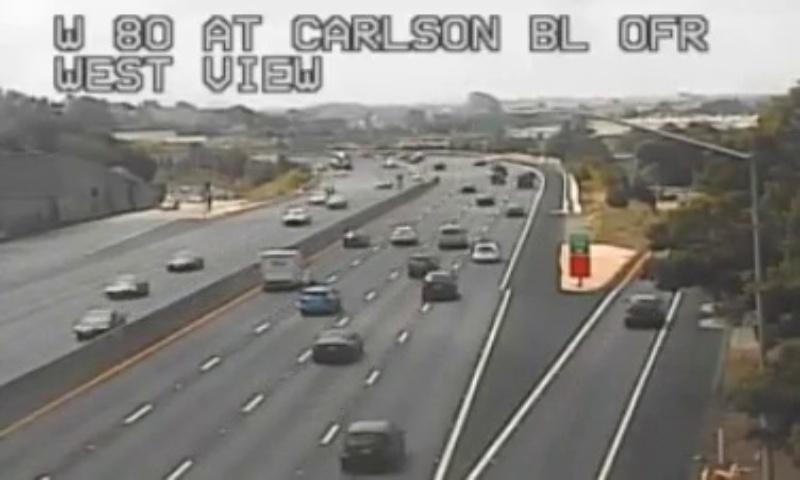car: (338, 420, 404, 470), (312, 330, 361, 360), (295, 286, 338, 313), (421, 270, 457, 299), (408, 254, 438, 276), (472, 242, 499, 262)
small-truck: (259, 249, 302, 288)
